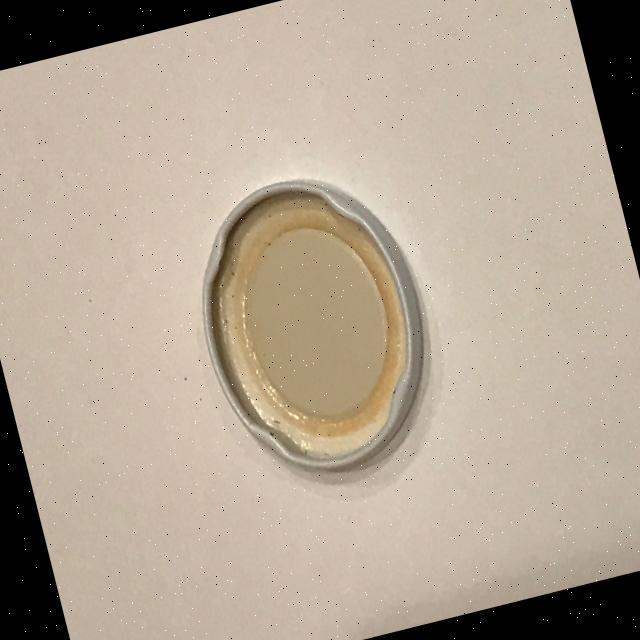metal: (172, 152, 458, 500)
